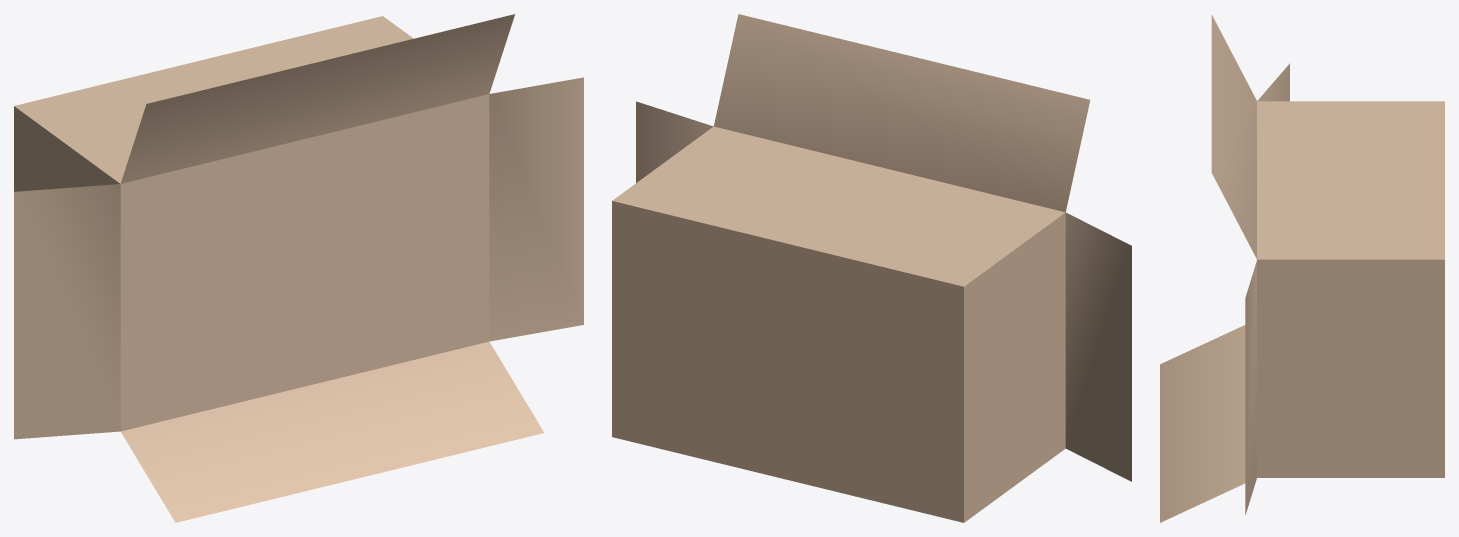
The model's file is Cardboard_0.glb.
3 views of the same model, side by side, from view 1: azimuth 30°, elevation 25°; view 2: azimuth 150°, elevation 25°; view 3: azimuth 270°, elevation 25° (orthographic). The views are drawn at different scales.
Visible parts, largest first — view 1: Cardboard_0; view 2: Cardboard_0; view 3: Cardboard_0.
Boxes of the visible parts, bbox=[...] form: Cardboard_0: bbox=[14, 14, 583, 522]; Cardboard_0: bbox=[612, 14, 1131, 522]; Cardboard_0: bbox=[1160, 15, 1444, 522].
Size of the model in its own units: 1.28 by 0.8927 by 0.6578.
